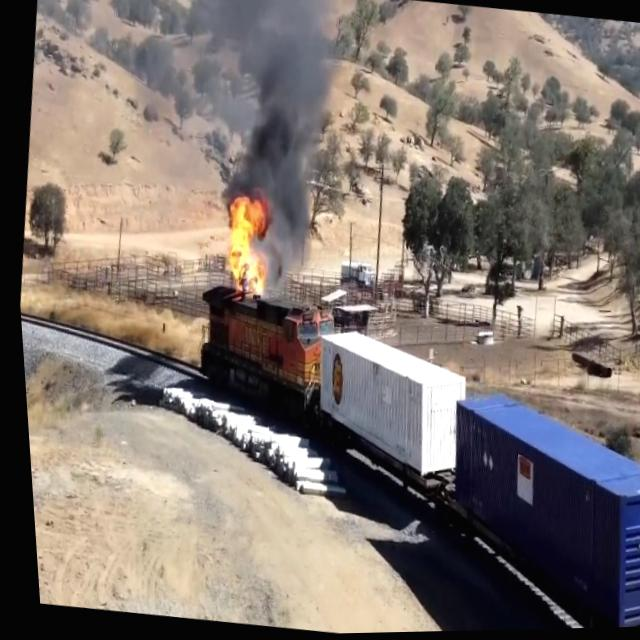fire: (208, 200, 270, 300)
smoke: (231, 0, 337, 229)
